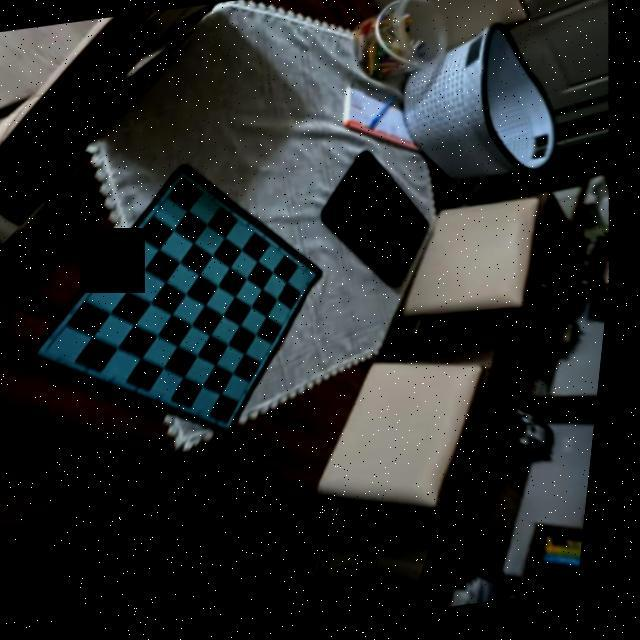chess-table-corners: (229, 416, 249, 430), (308, 271, 326, 284), (178, 175, 192, 187), (46, 346, 60, 356)
